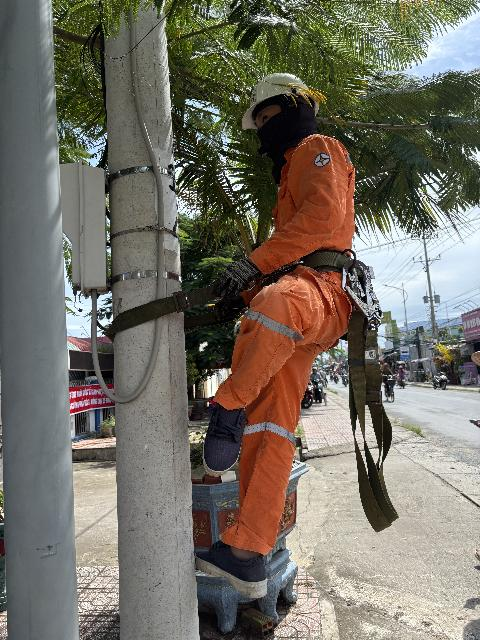gloves: (212, 254, 260, 294)
harness: (273, 239, 377, 282)
helmet: (237, 69, 327, 124)
shoes: (179, 524, 279, 596), (192, 393, 262, 478)
